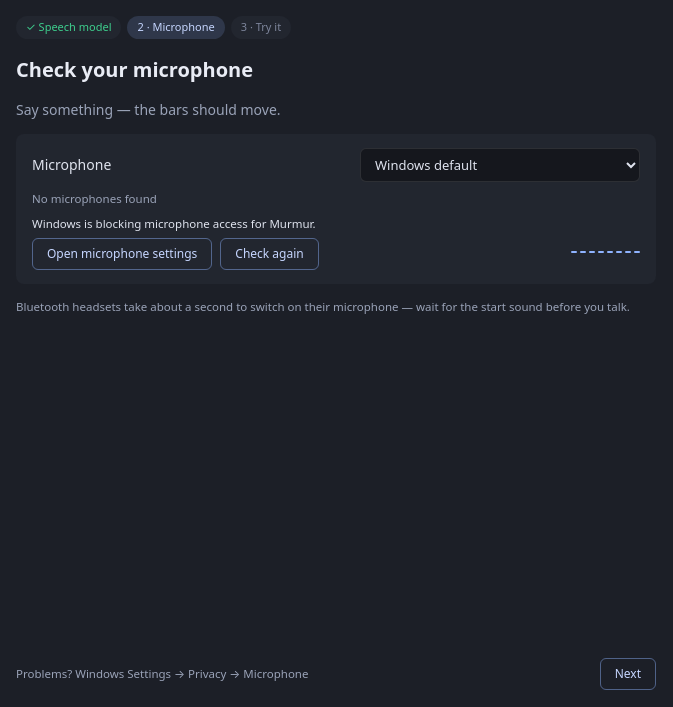
SetupPage › step 2, the microphone › says so when the microphone settings could not be opened
The image size is (673, 707).
Click the button "Open microphone settings". click: (122, 254)
box: 32,238 -> 212,270
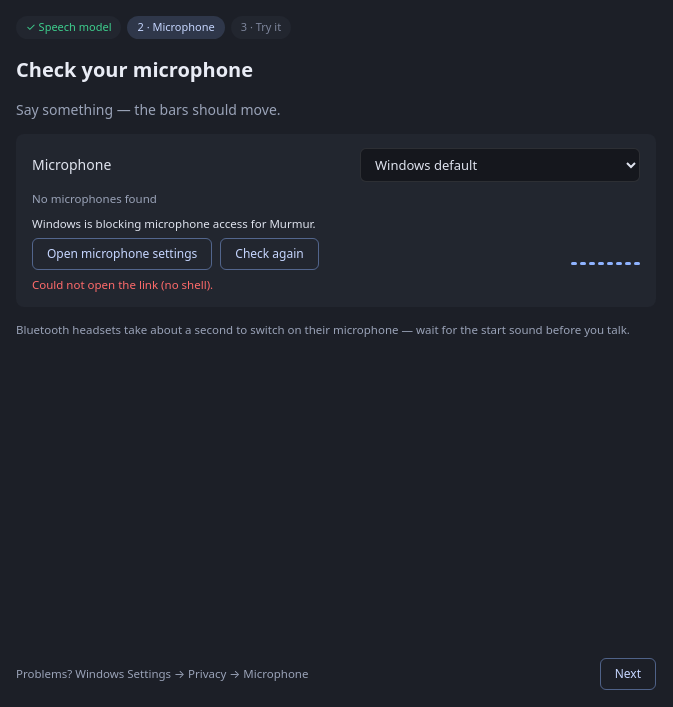
Result: the message "Could not open the link (no shell)." is shown at 32,276 -> 213,293
